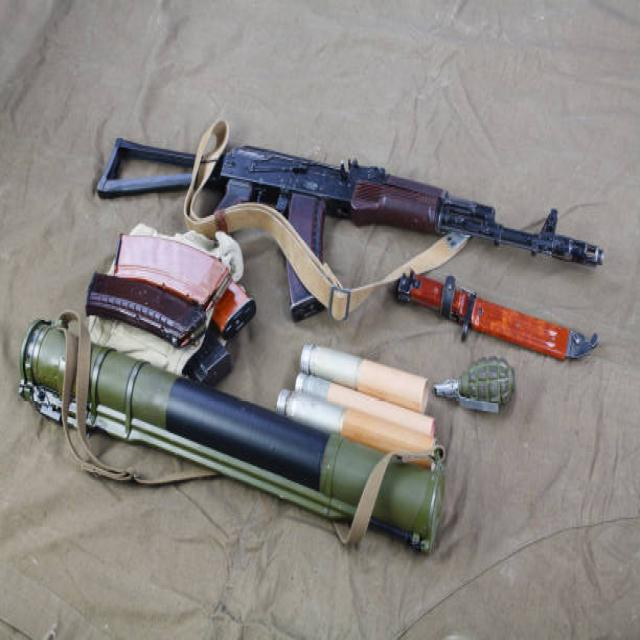grenade: (430, 354, 521, 420)
